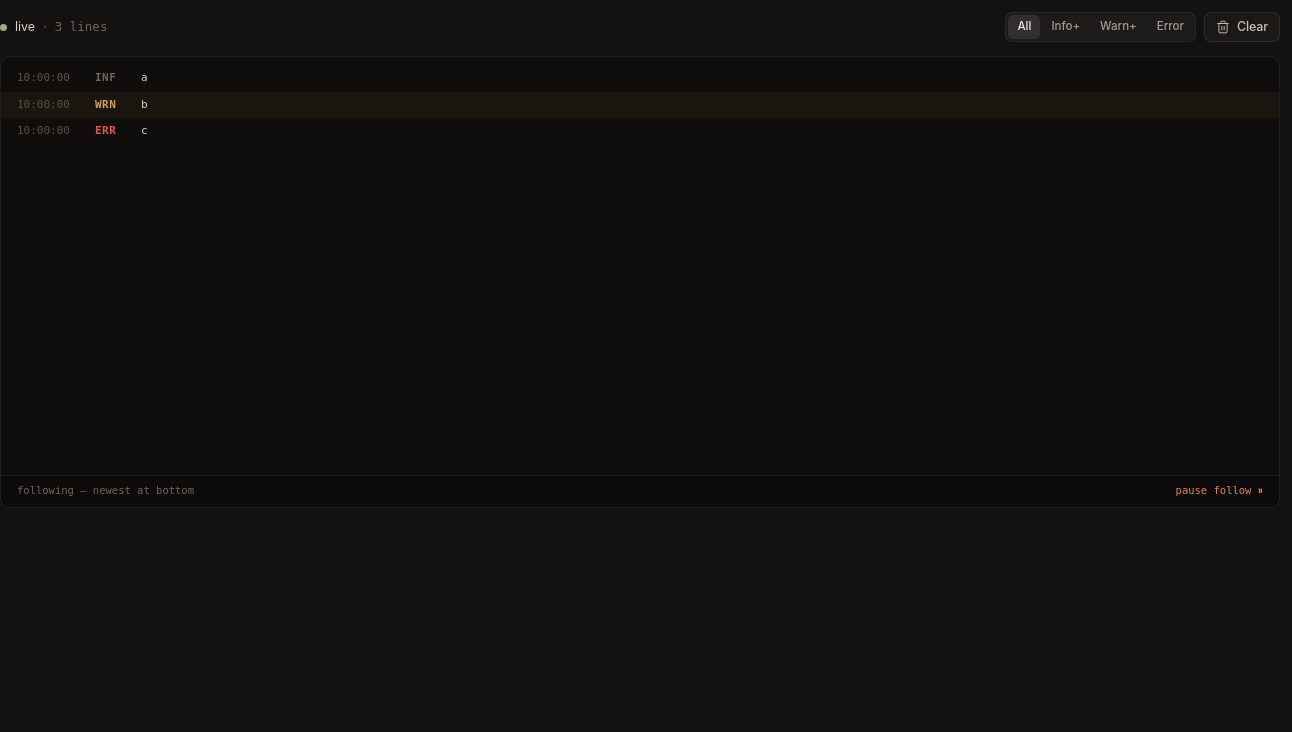
Test: LogsTab › tracks the live count as the filter narrows
The width and height of the screenshot is (1292, 732).
Expected: the text "3 lines" is shown, [55, 18, 107, 36]
What coordinates should you click on to do the following:
click the tab "Warn+"
I would click on:
 (1118, 27)
Its box is [1091, 15, 1146, 39].
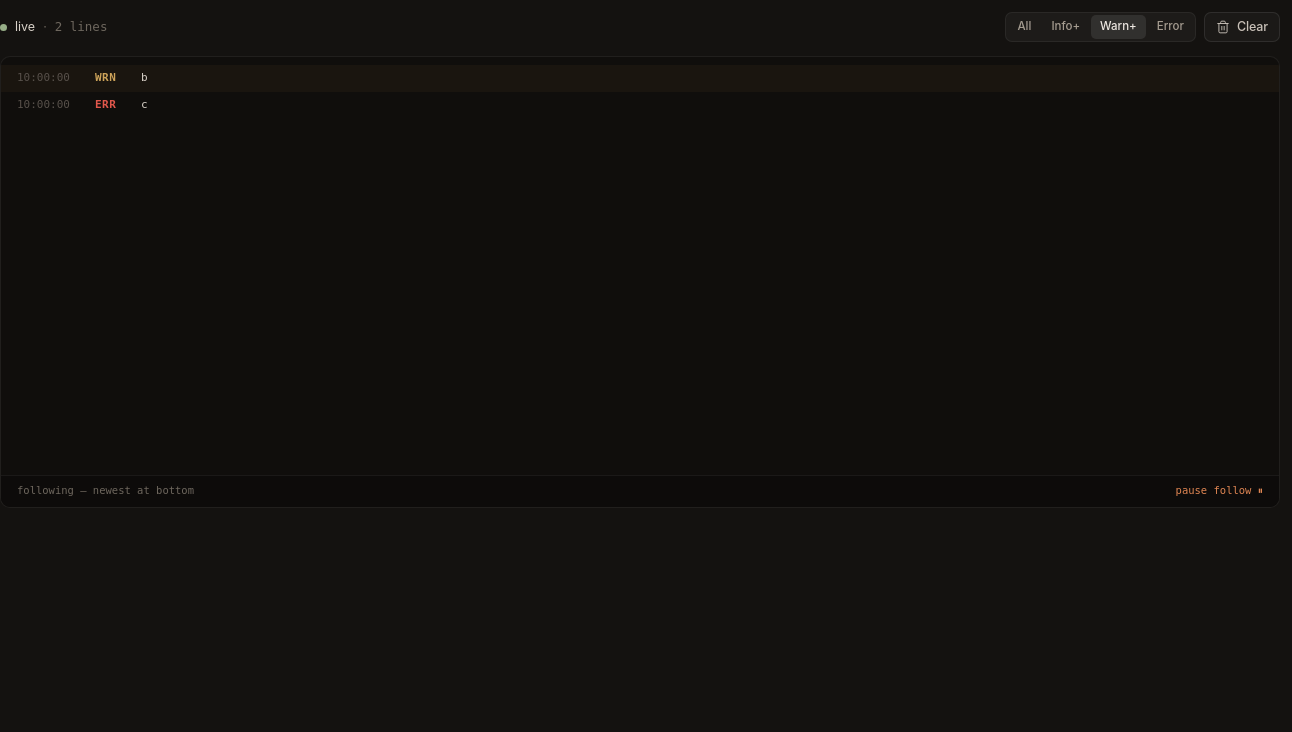
Result: the text "2 lines" is shown at [55, 18, 107, 36]
